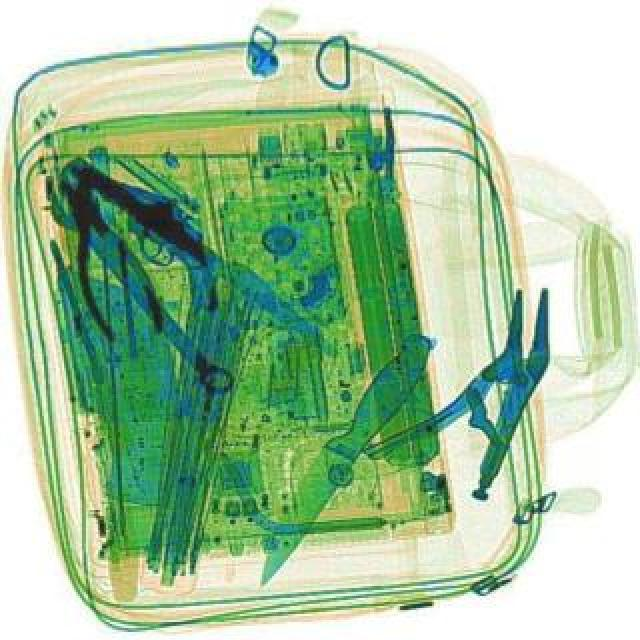gun: (30, 148, 254, 312)
knife: (62, 144, 348, 364), (238, 324, 442, 596)
scissors: (36, 170, 248, 402)
wrench: (36, 166, 172, 346)
